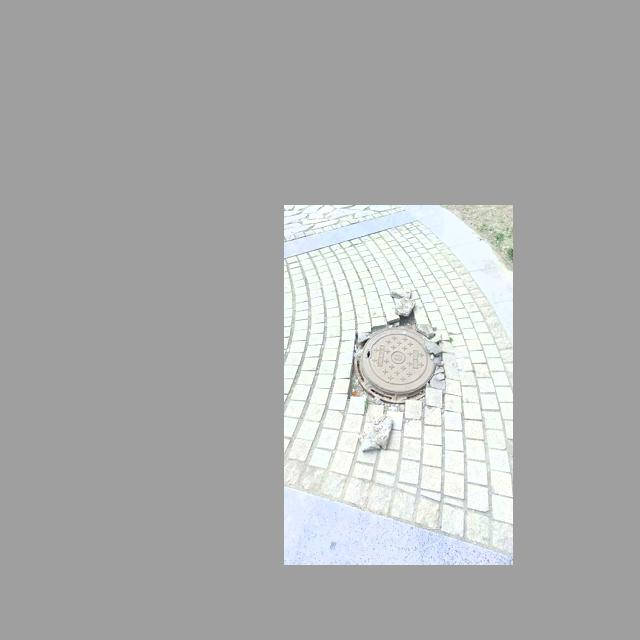circle: (338, 305, 457, 421)
